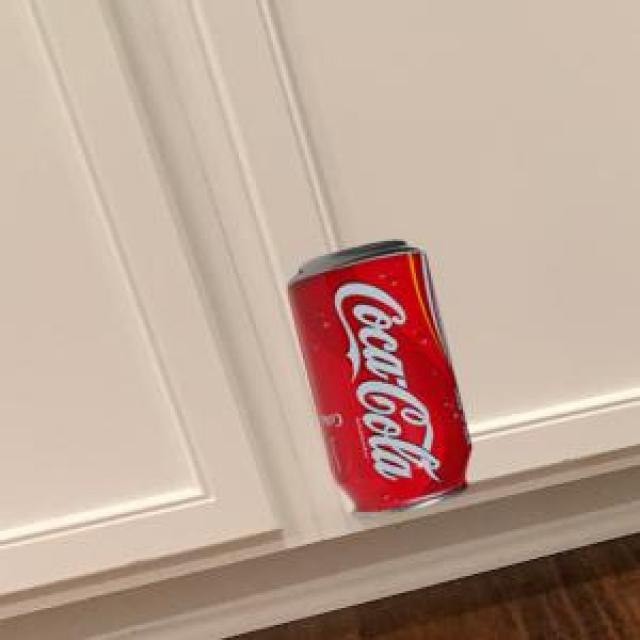Can: (285, 238, 468, 513)
